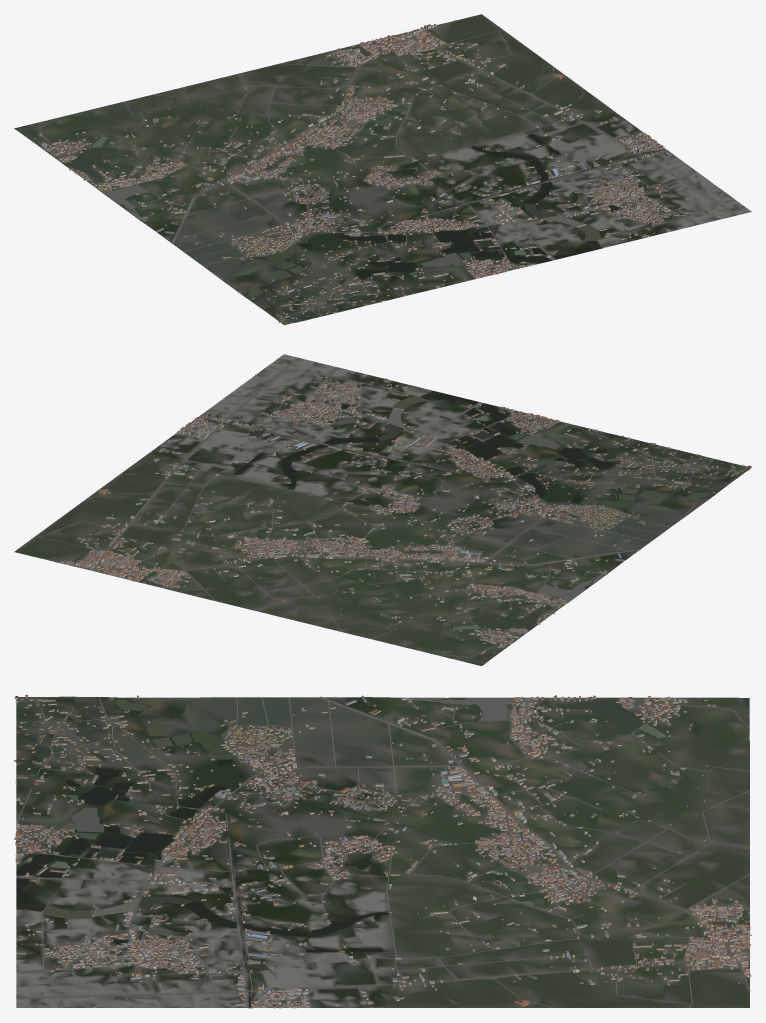
3 renders of one model, top to bottom at view 1: azimuth 30°, elevation 25°; view 2: azimuth 150°, elevation 25°; view 3: azimuth 270°, elevation 25°, orthographic. The views are drawn at different scales.
Visible parts, largest first — view 1: ground, buildings, water, roads; view 2: ground, buildings, water, roads; view 3: ground, buildings, water, roads.
Part boxes in pixels (box(x1,y1,x2,y2)): ground: box(14, 14, 751, 325); buildings: box(33, 24, 722, 325); water: box(14, 108, 663, 322); roads: box(39, 20, 738, 323); ground: box(14, 354, 751, 665); buildings: box(53, 374, 751, 657); water: box(204, 391, 741, 665); roads: box(36, 357, 746, 656); ground: box(16, 696, 749, 1008); buildings: box(14, 695, 751, 1008); water: box(16, 697, 749, 1006); roads: box(16, 696, 750, 1007).
Bounding box in the file's own units: 2816 × 26.51 × 2820.
